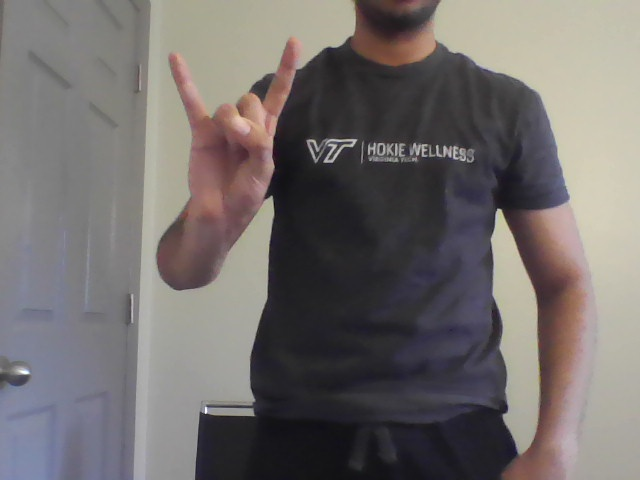help: (163, 35, 304, 217)
